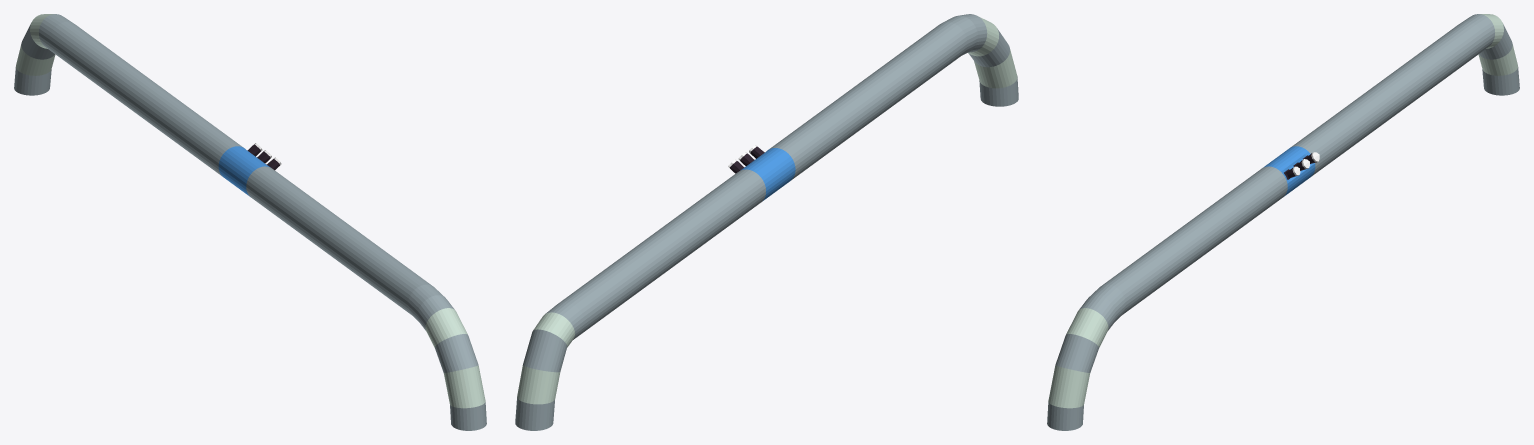
The model's file is tuberia aspersor.fbx.
3 renders of one model, left to right at view 1: azimuth 30°, elevation 25°; view 2: azimuth 150°, elevation 25°; view 3: azimuth 330°, elevation 25°, orthographic. The views are drawn at different scales.
Visible parts, largest first — view 1: Cylinder.002; view 2: Cylinder.002; view 3: Cylinder.002.
Part boxes in pixels (x1,y1,x2,y2): Cylinder.002: [14, 14, 486, 430]; Cylinder.002: [515, 14, 1018, 430]; Cylinder.002: [1047, 14, 1519, 430].
Size of the model in its own units: 250 by 657 by 5058.
